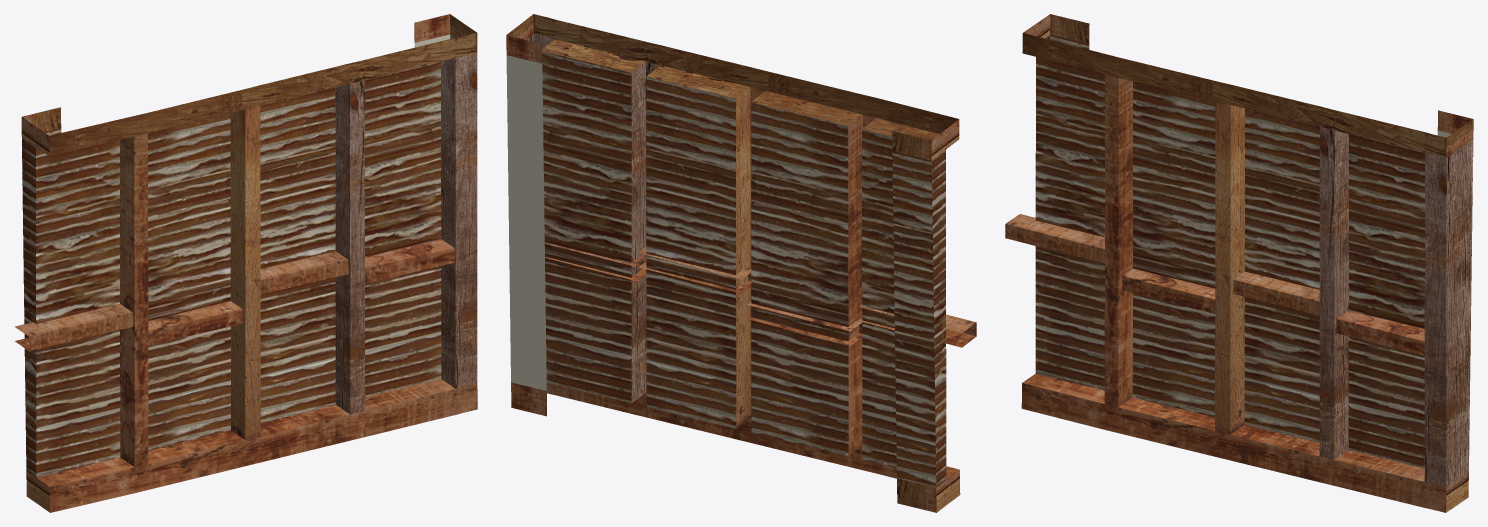
The model's file is SP_Wall1.fbx.
3 views of the same model, side by side, from view 1: azimuth 30°, elevation 25°; view 2: azimuth 150°, elevation 25°; view 3: azimuth 330°, elevation 25° (orthographic).
Parts seen in each view (by area): view 1: SP_Wall1; view 2: SP_Wall1; view 3: SP_Wall1.
Part boxes in pixels (box(x1,y1,x2,y2)): SP_Wall1: box(14, 14, 477, 512); SP_Wall1: box(506, 14, 976, 512); SP_Wall1: box(1005, 14, 1473, 512).
Bounding box in the file's own units: 370 × 299 × 42.57.
